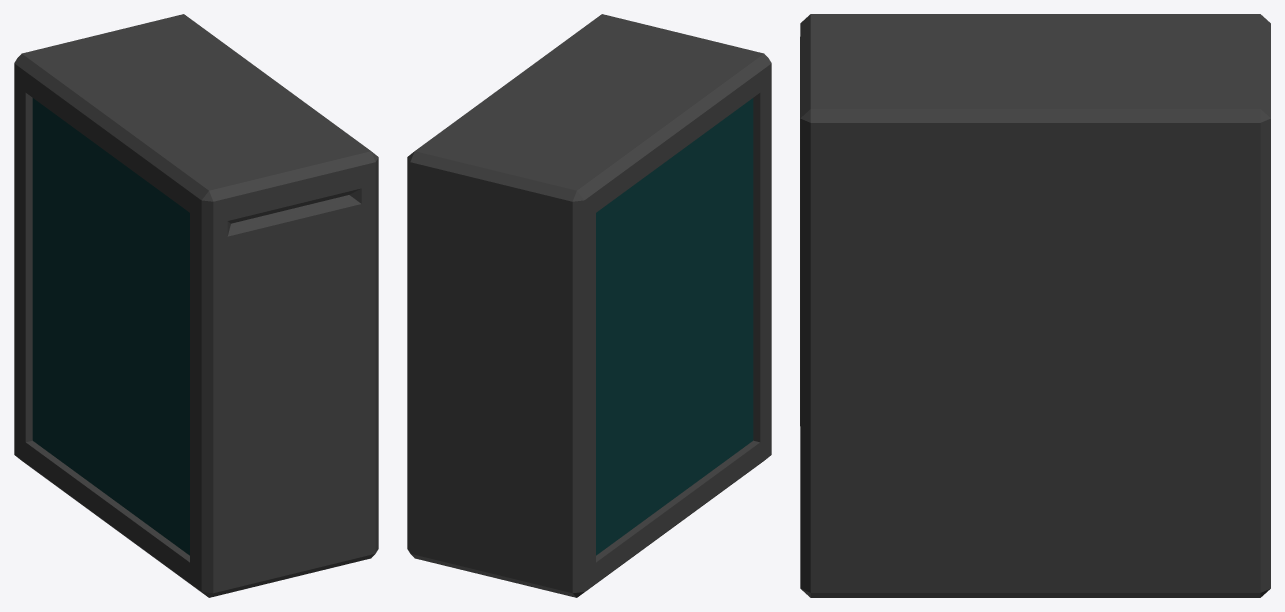
The picture shows the model from 3 angles, left to right: view 1: azimuth 30°, elevation 25°; view 2: azimuth 150°, elevation 25°; view 3: azimuth 270°, elevation 25°; orthographic projection. The views are drawn at different scales.
Visible parts, largest first — view 1: PC; view 2: PC; view 3: PC.
Boxes of the visible parts, left/top/right/bottom form: PC: left=14, top=14, right=378, bottom=597; PC: left=407, top=14, right=771, bottom=597; PC: left=800, top=14, right=1270, bottom=597.
Bounding box in the file's own units: 0.346 × 0.7596 × 0.6631.
